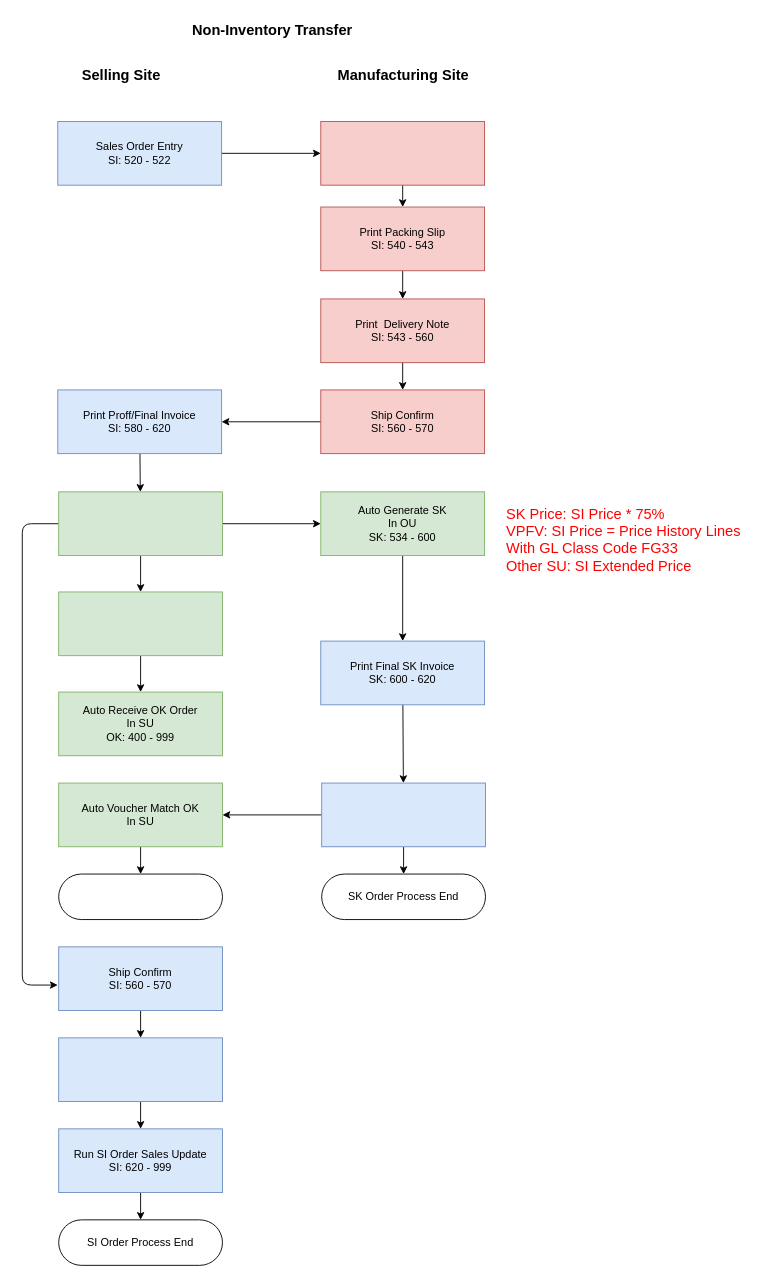
This 766x1281 diagram has some shape labels left out. Each missing label, with the centre of its shape:
Auto Generate OK In SU OK: 400 - 999: the point at 140,623
Auto Generate SK/OK Hourly or Manually: the point at 140,523
OK Order Process End: the point at 140,896
Planning/Design/Manufacturing Process SI: 529 - 540: the point at 402,153
Print Proof/Final Invoice SI: 580 - 620: the point at 140,1069
Run SK Order Sales Update SK: 620 - 999: the point at 403,814
